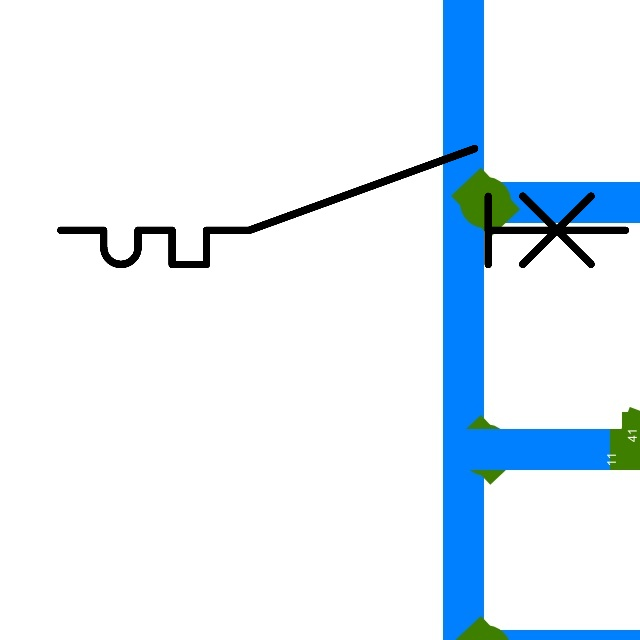interruptor_termomagnetico: (46, 134, 639, 279)
